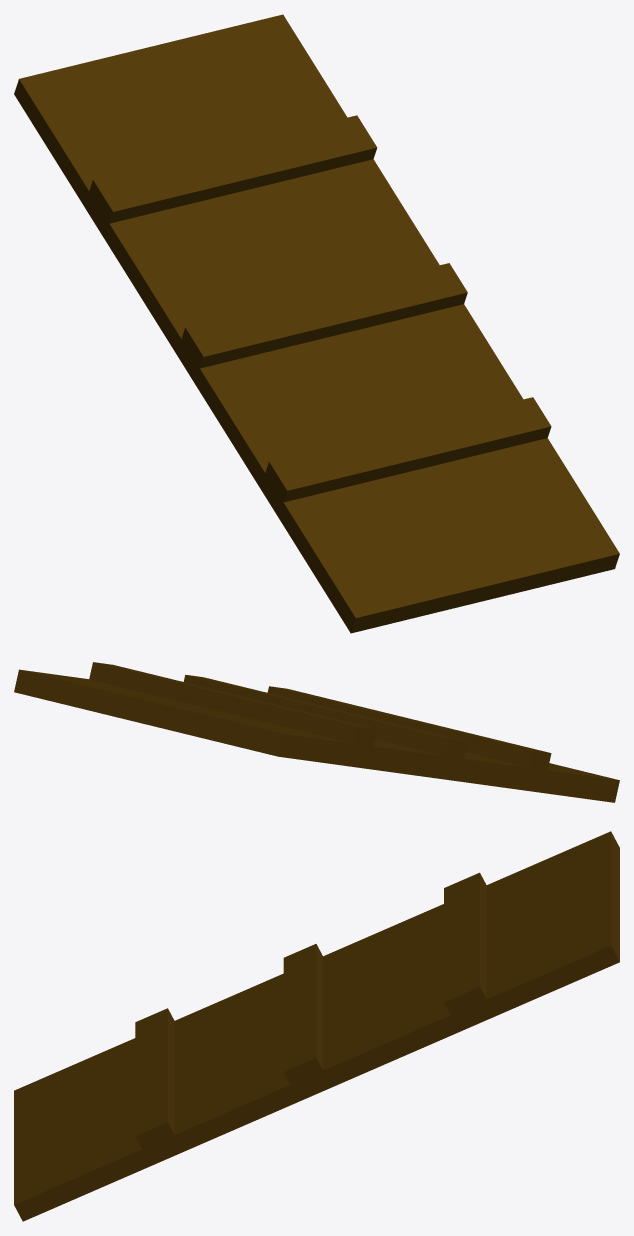
Rendered from stairs4.fbx.
3 views of the same model, one above another, from view 1: azimuth 30°, elevation 25°; view 2: azimuth 150°, elevation 25°; view 3: azimuth 270°, elevation 25° (orthographic). The views are drawn at different scales.
Parts seen in each view (by area): view 1: pCube46; view 2: pCube46; view 3: pCube46.
Boxes of the visible parts, bbox=[...] form: pCube46: bbox=[14, 14, 619, 633]; pCube46: bbox=[14, 662, 619, 802]; pCube46: bbox=[14, 831, 619, 1221].
Size of the model in its own units: 1.73 by 1.96 by 3.89.
